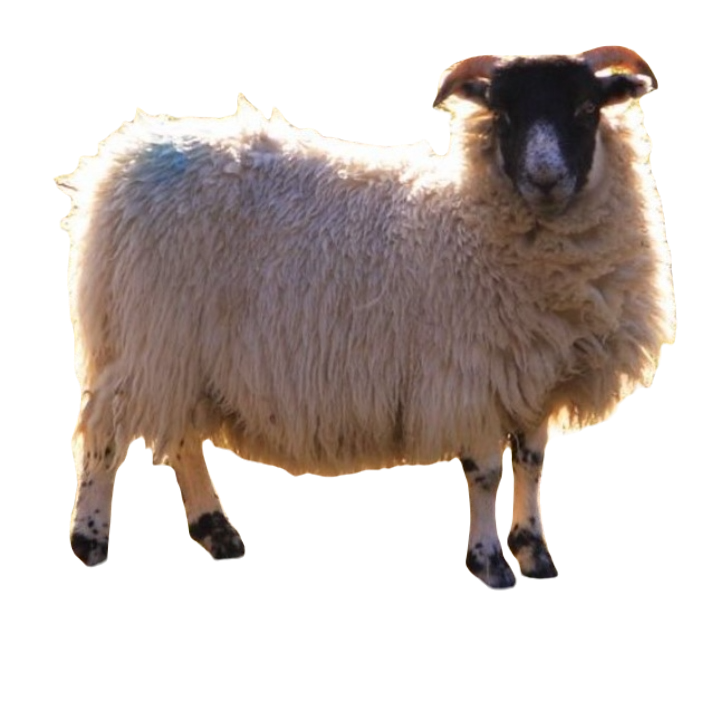Sheep: (50, 41, 687, 595)
